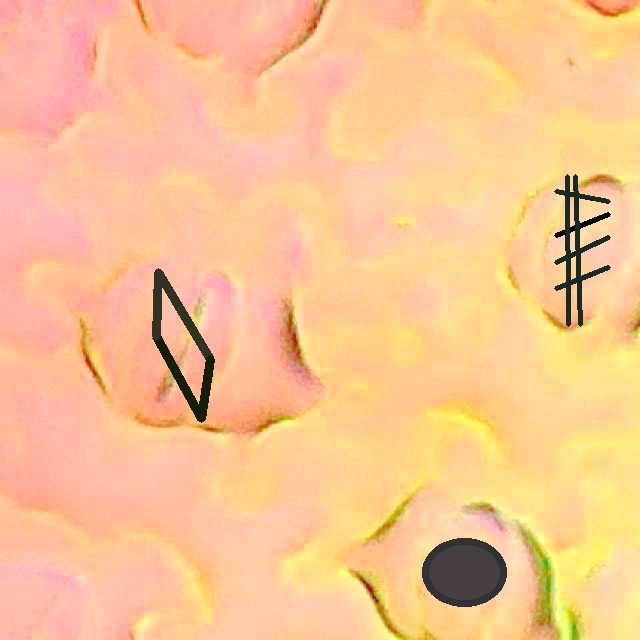close: (554, 174, 610, 326), (423, 538, 506, 607)
open: (152, 268, 214, 422)
